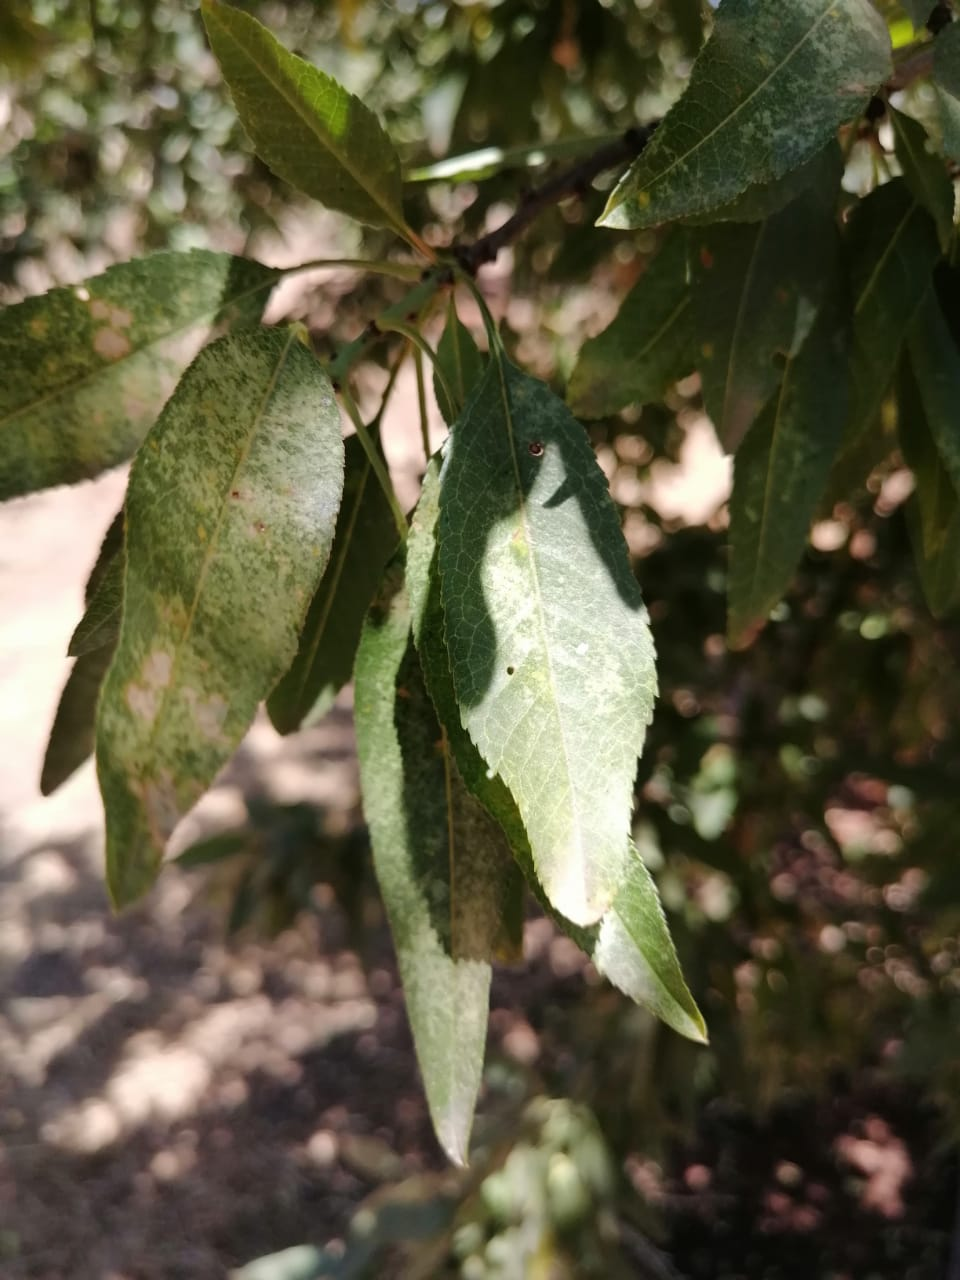faux tigre: (94, 326, 345, 911), (434, 352, 661, 926)
